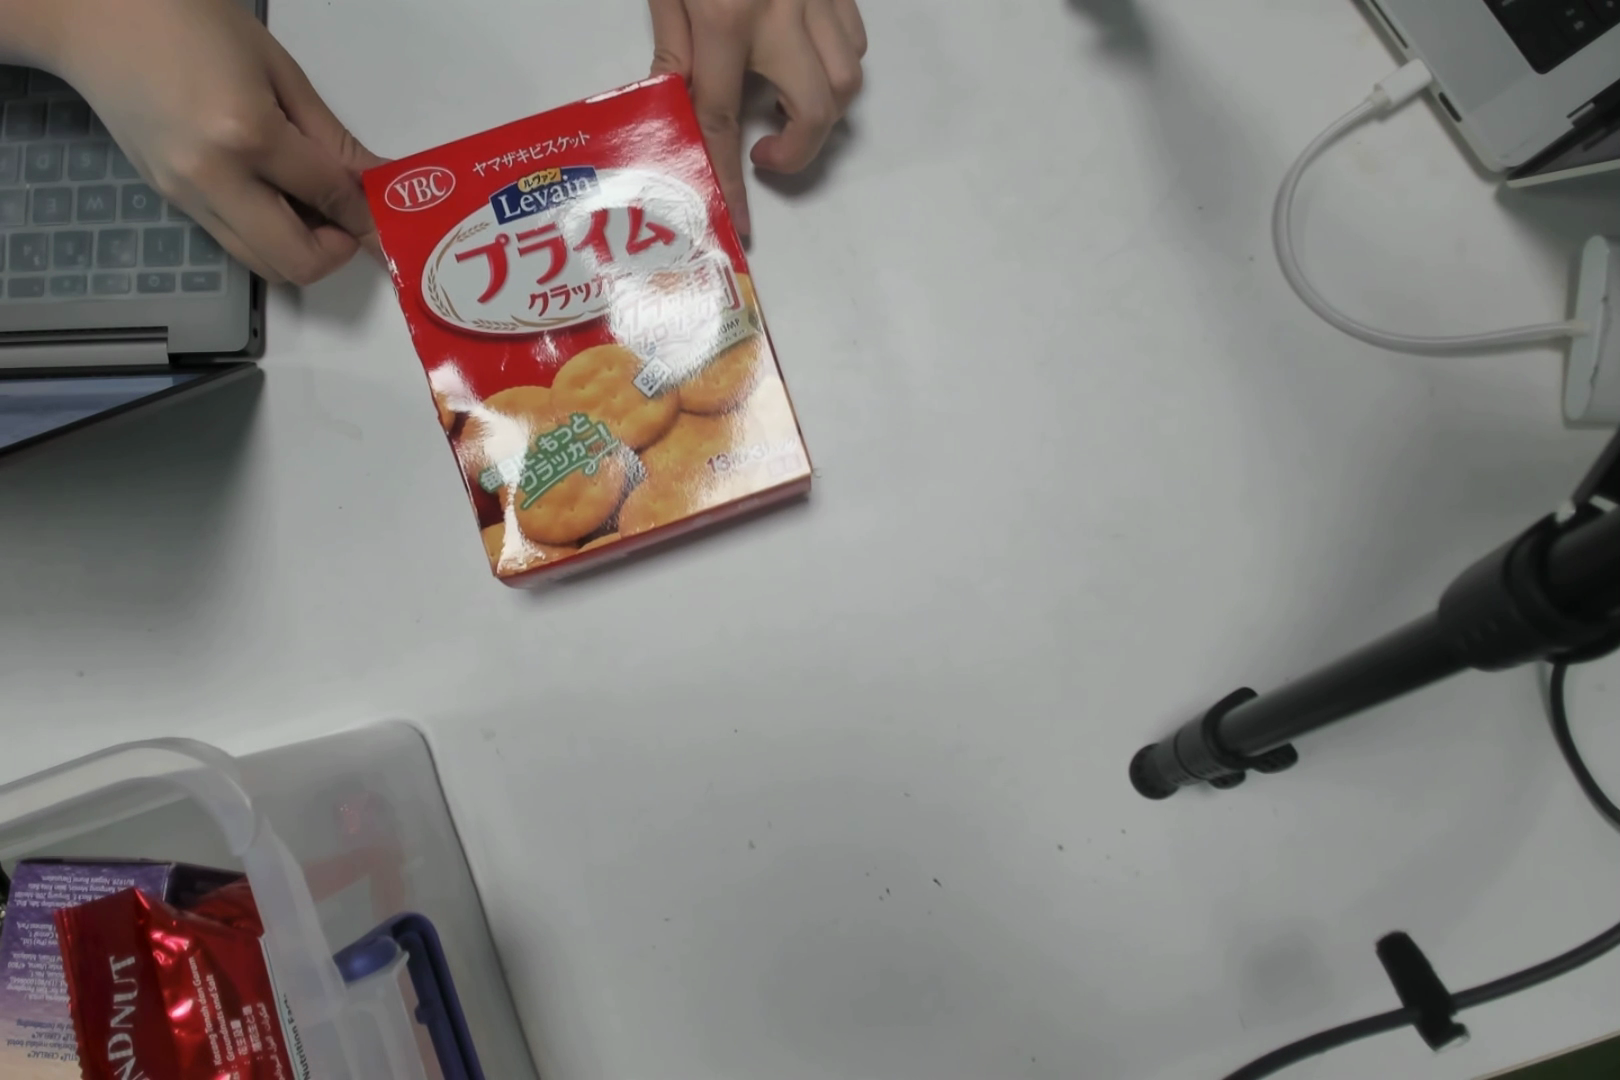c: (389, 139, 769, 545)
